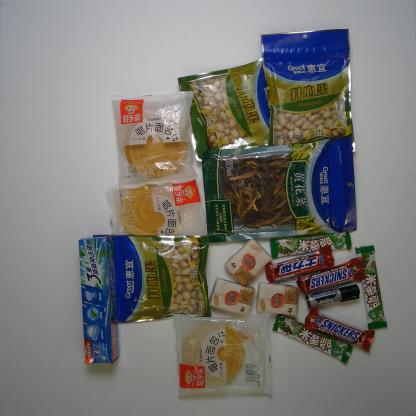Chocolate: (272, 314, 353, 364), (303, 306, 376, 354), (264, 243, 336, 285), (295, 256, 367, 296), (355, 244, 388, 331), (269, 230, 352, 260)
Dessert: (110, 90, 200, 188), (172, 311, 274, 397), (104, 175, 208, 236)
Dried Food: (200, 136, 358, 244)
Dried Fruit: (259, 28, 357, 154), (92, 233, 212, 325), (175, 57, 271, 164)
Personal Hygiene: (77, 235, 121, 365)
Stationery: (304, 283, 361, 309)
Tissue: (224, 237, 273, 286), (207, 277, 256, 314), (255, 280, 300, 318)
